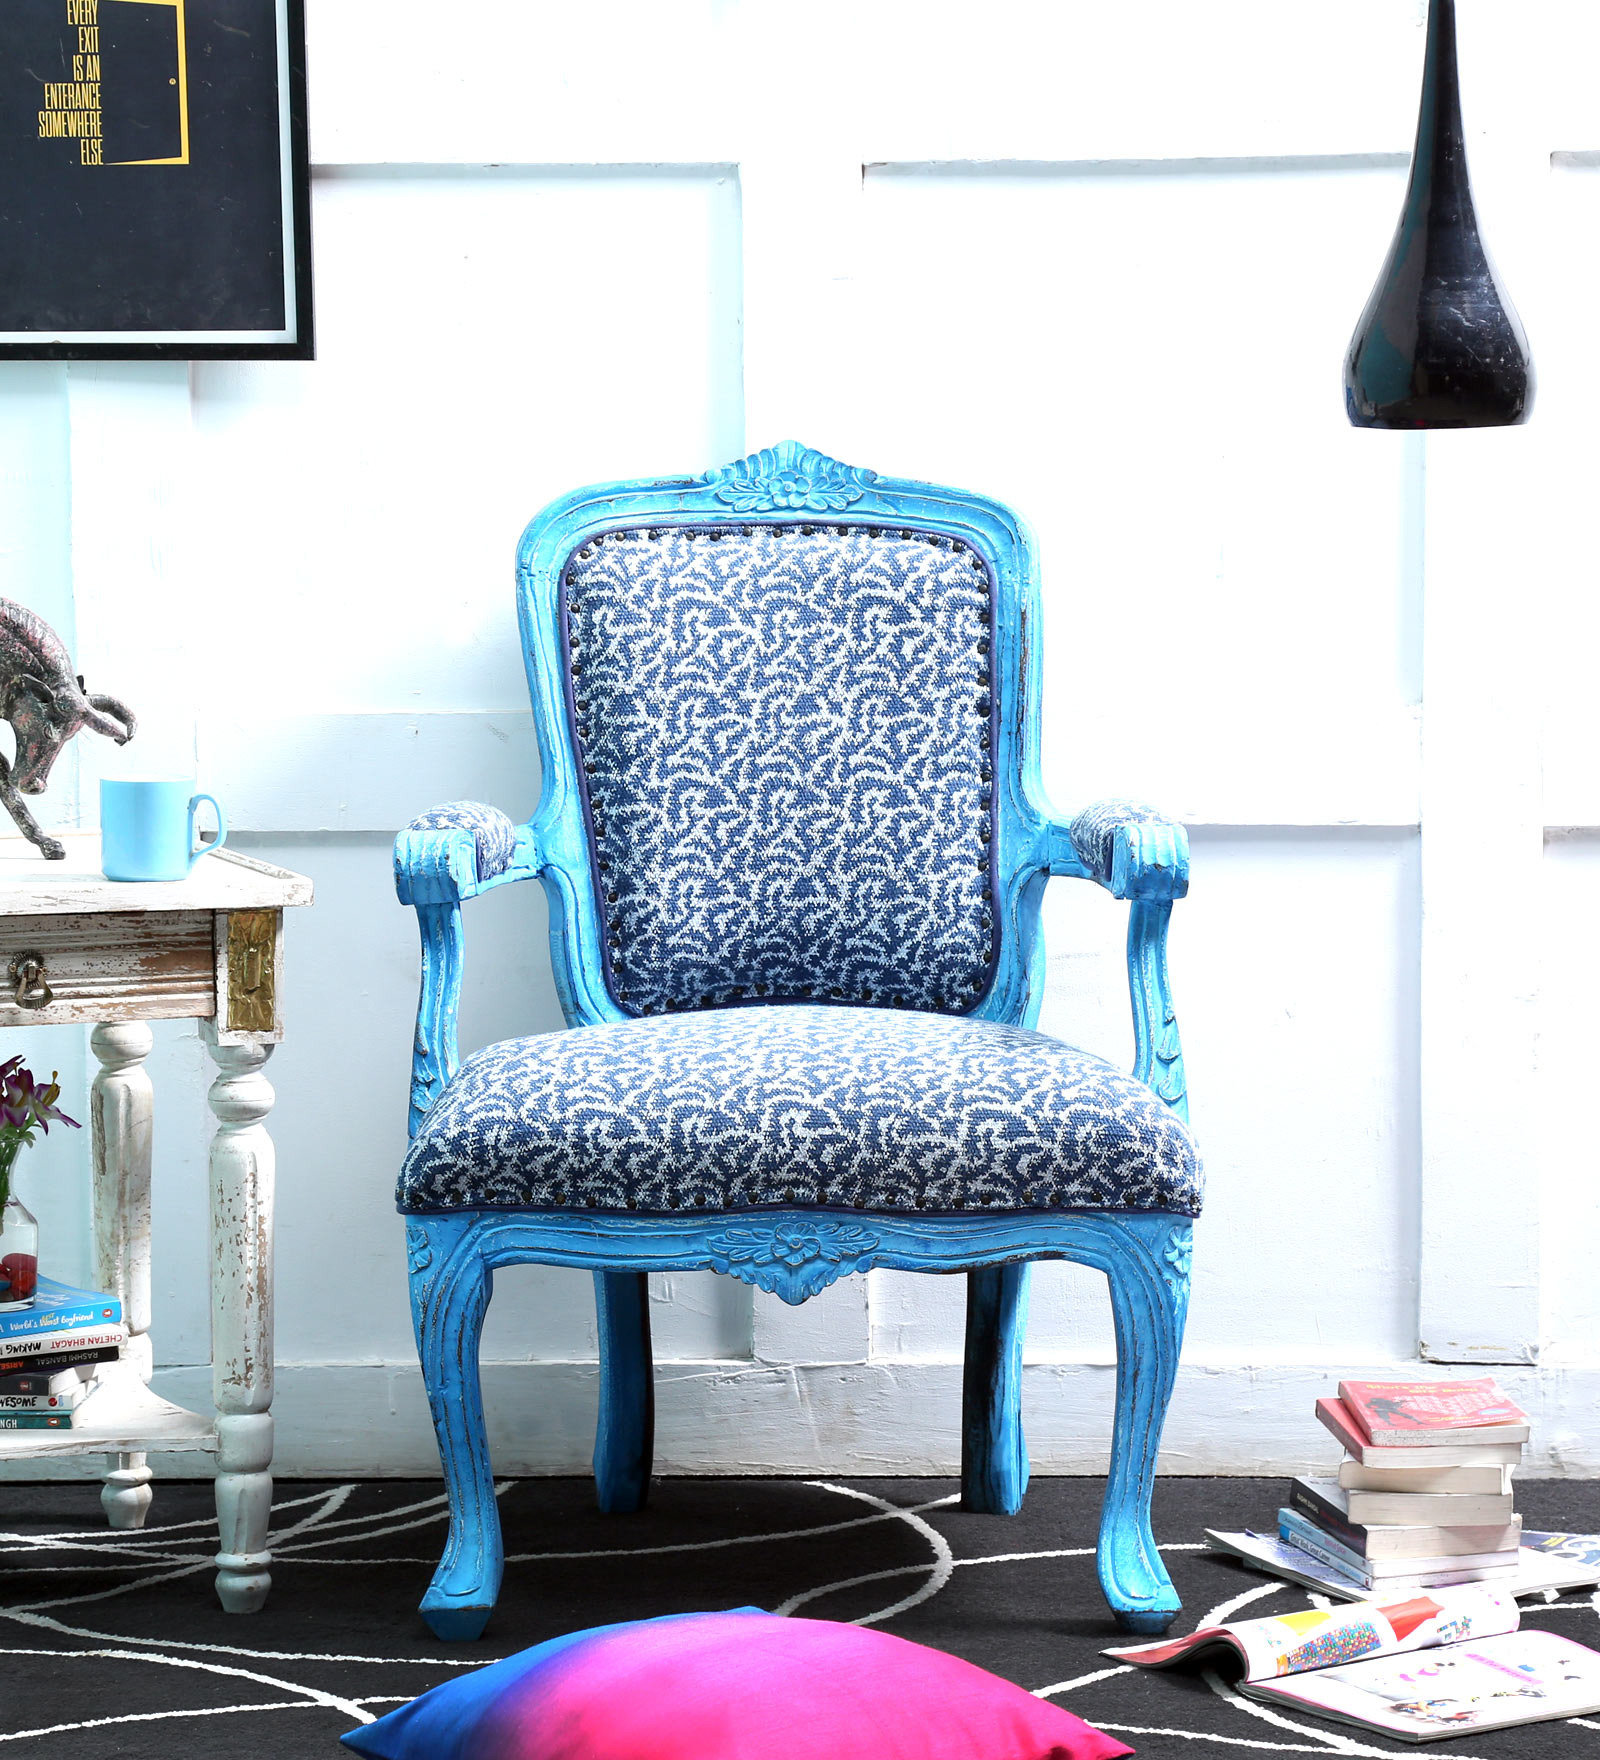Elton Arm Chair in Blue Colour by Bohemiana: (360, 423, 1231, 1653)
